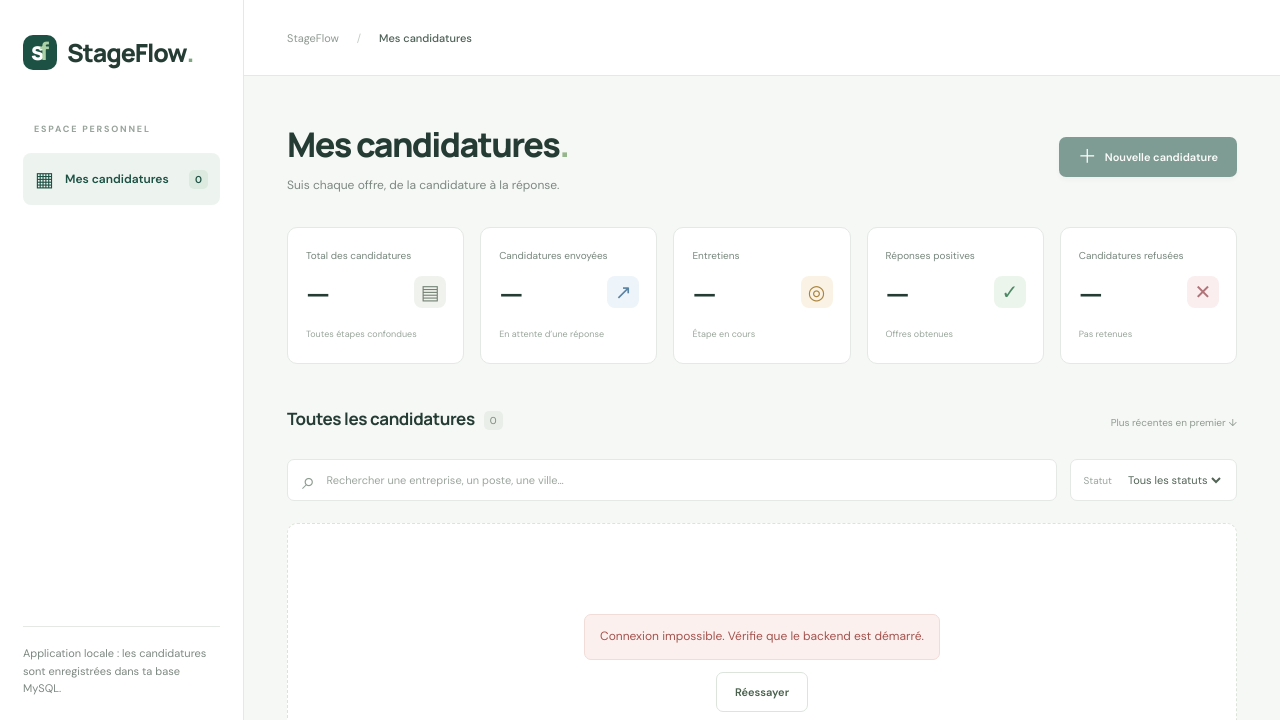
it: affiche une erreur réseau et permet de réessayer
Expected: the message shows "Connexion", [600,628,924,644]
Click the button "Réessayer" at (762, 692), box [716,672,808,712]
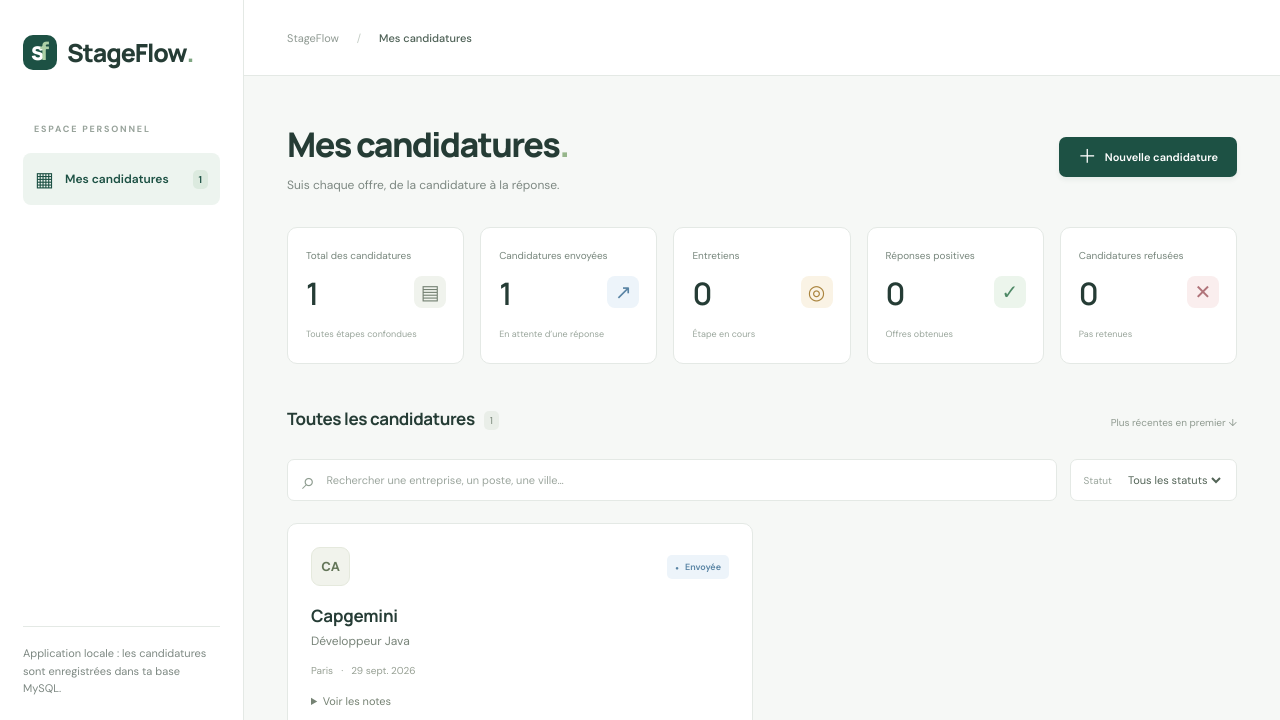
Result: the heading "Capgemini" is shown at [311,604,398,627]
